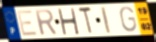E: (16, 9, 39, 37)
G: (119, 5, 138, 33)
H: (56, 8, 80, 35)
I: (99, 6, 112, 35)
R: (33, 8, 59, 37)
T: (77, 6, 94, 36)
